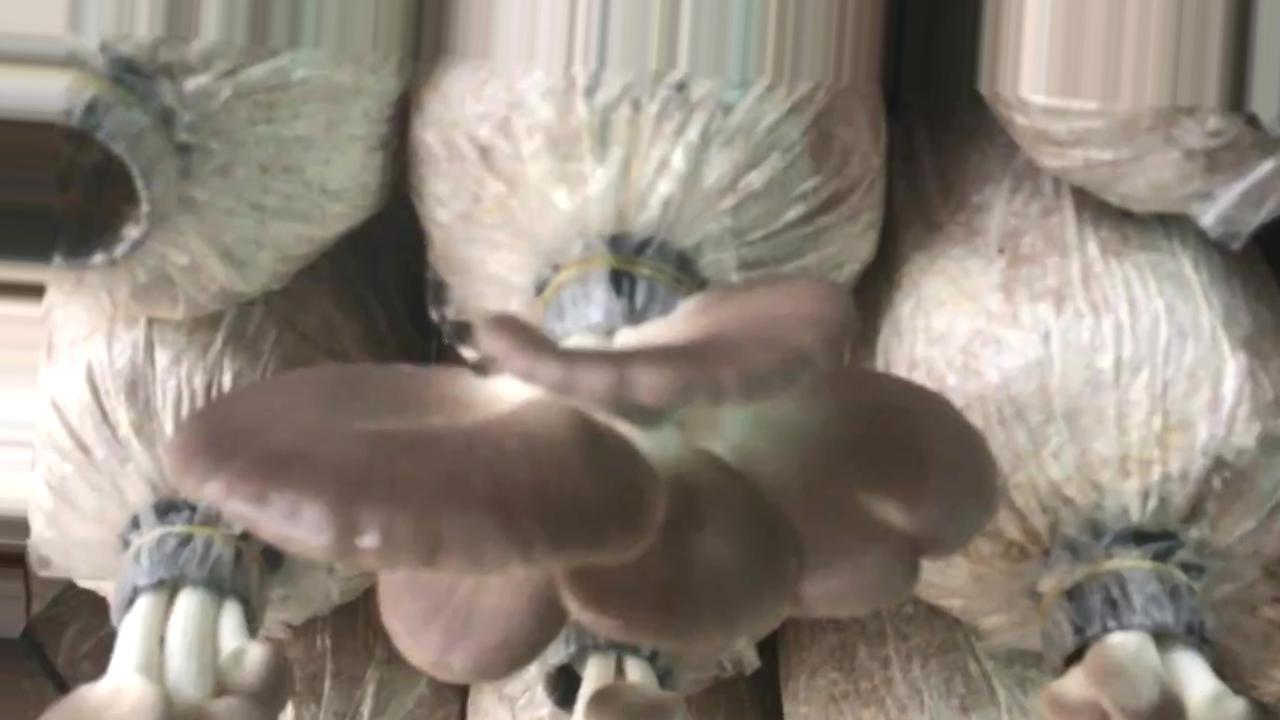nam: (168, 228, 1002, 689)
